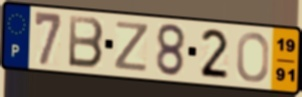2: (199, 27, 232, 82)
7: (33, 9, 64, 68)
8: (154, 23, 188, 78)
B: (67, 14, 106, 71)
O: (235, 31, 271, 84)
Z: (113, 19, 151, 74)
